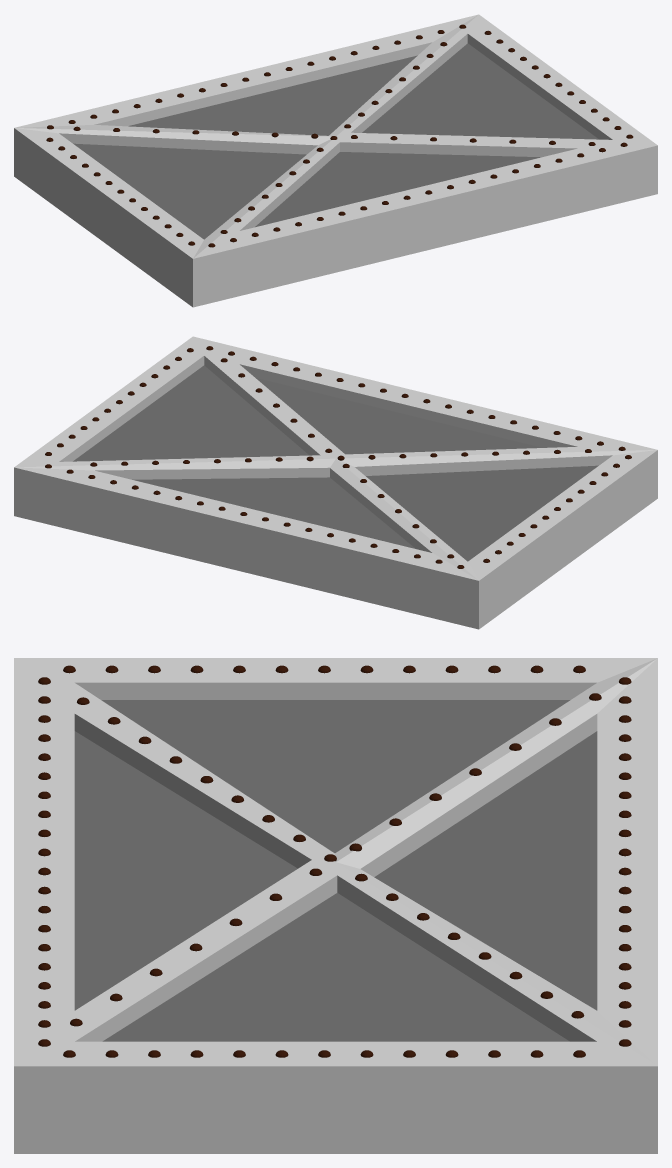
File: BlastDoor.fbx
The picture shows the model from 3 angles, top to bottom: view 1: azimuth 30°, elevation 25°; view 2: azimuth 150°, elevation 25°; view 3: azimuth 270°, elevation 25°; orthographic projection. The views are drawn at different scales.
Visible parts, largest first — view 1: Dverr luka; view 2: Dverr luka; view 3: Dverr luka.
Boxes of the visible parts, x1,y1,x2,y2 form: Dverr luka: [14, 14, 657, 307]; Dverr luka: [14, 336, 657, 629]; Dverr luka: [14, 658, 657, 1153].
Bounding box in the file's own units: 300 × 31.42 × 200.
